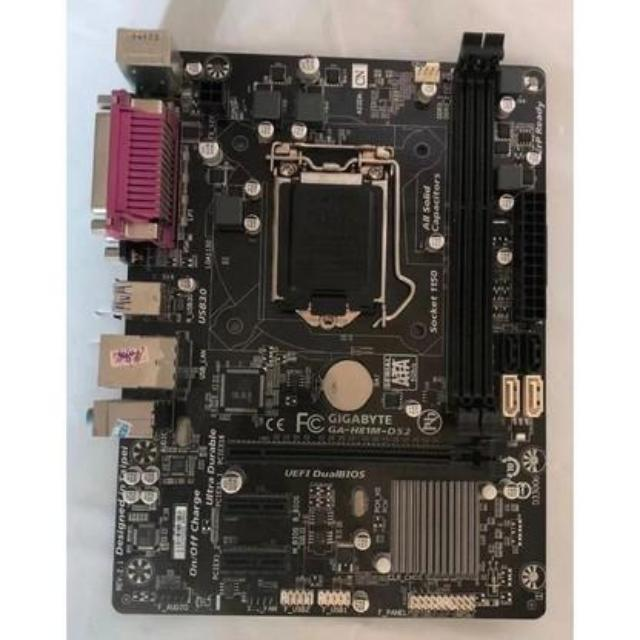Mainboard: (66, 9, 568, 640)
